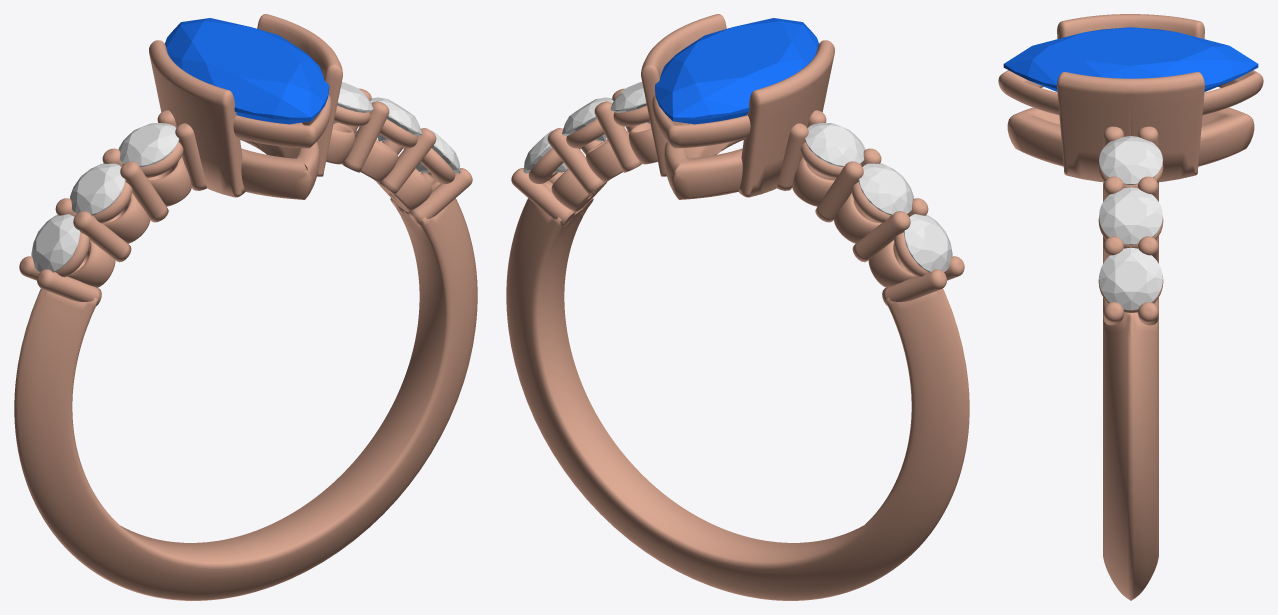
Rendered from bluesapphire-marquise-rosegold-halfmoonbezel-knifeedge-7stone.glb.
3 views of the same model, side by side, from view 1: azimuth 30°, elevation 25°; view 2: azimuth 150°, elevation 25°; view 3: azimuth 270°, elevation 25° (orthographic). The views are drawn at different scales.
Parts seen in each view (by area): view 1: metal.003, stone.002, side.002, side.013, side.014, side.016, side.017, side.015; view 2: metal.003, stone.002, side.002, side.013, side.014, side.016, side.017, side.015; view 3: metal.003, stone.002, side.015, side.016, side.017.
Part boxes in pixels (left/top/right/bottom): metal.003: left=14, top=14, right=477, bottom=600; stone.002: left=165, top=18, right=329, bottom=124; side.002: left=31, top=214, right=80, bottom=272; side.013: left=70, top=163, right=125, bottom=215; side.014: left=118, top=123, right=179, bottom=166; side.016: left=370, top=97, right=421, bottom=141; side.017: left=333, top=82, right=373, bottom=123; side.015: left=416, top=128, right=460, bottom=173; metal.003: left=506, top=14, right=969, bottom=600; stone.002: left=655, top=18, right=818, bottom=124; side.002: left=903, top=214, right=952, bottom=272; side.013: left=858, top=163, right=913, bottom=215; side.014: left=804, top=123, right=865, bottom=166; side.016: left=562, top=97, right=613, bottom=141; side.017: left=610, top=82, right=650, bottom=123; side.015: left=523, top=128, right=567, bottom=173; metal.003: left=998, top=14, right=1263, bottom=600; stone.002: left=1003, top=27, right=1258, bottom=91; side.015: left=1099, top=247, right=1162, bottom=310; side.016: left=1099, top=187, right=1162, bottom=244; side.017: left=1099, top=136, right=1162, bottom=184.
Size of the model in its own units: 20.5 by 22.93 by 10.4.
